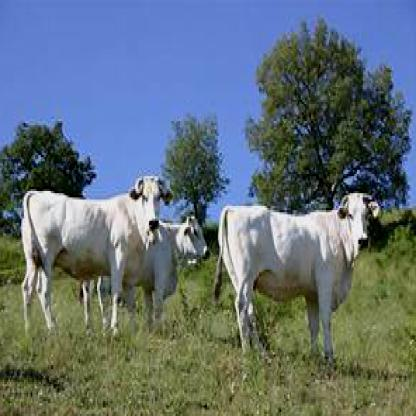cow: (209, 193, 381, 357), (20, 174, 173, 342), (154, 212, 210, 306)
